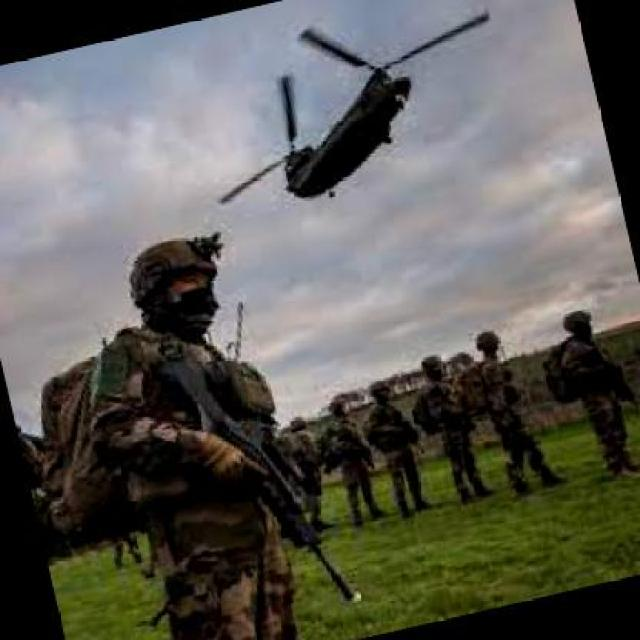MIL_Pax: (51, 220, 329, 638), (543, 298, 639, 490), (460, 323, 542, 502), (409, 346, 493, 506), (357, 372, 432, 517), (317, 388, 386, 526), (279, 413, 333, 532), (104, 519, 144, 566)
